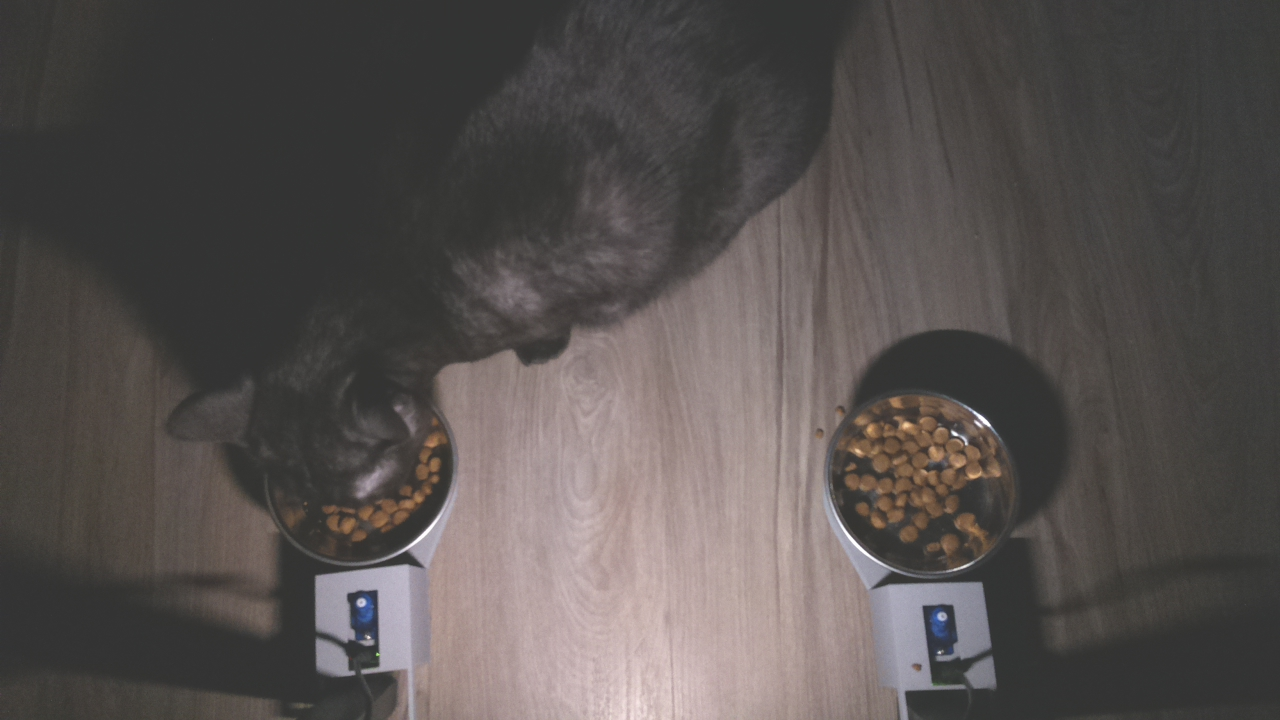open_bowl: (816, 384, 1026, 582)
saki_eating: (154, 273, 476, 575)
